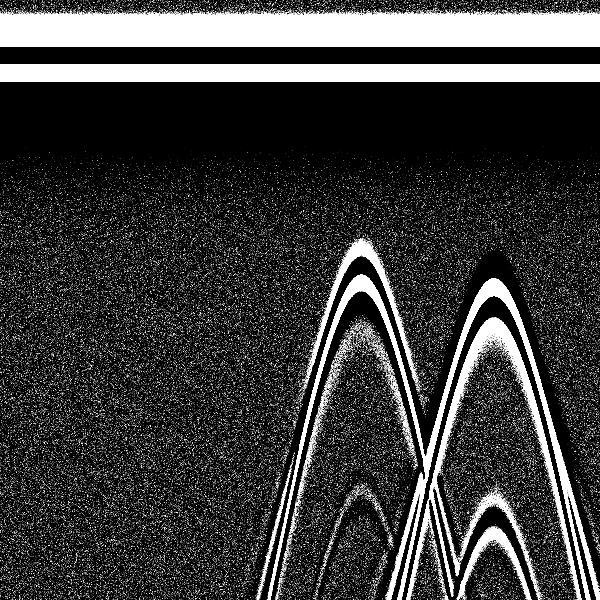pipe: (440, 4, 542, 351), (310, 5, 409, 344)
